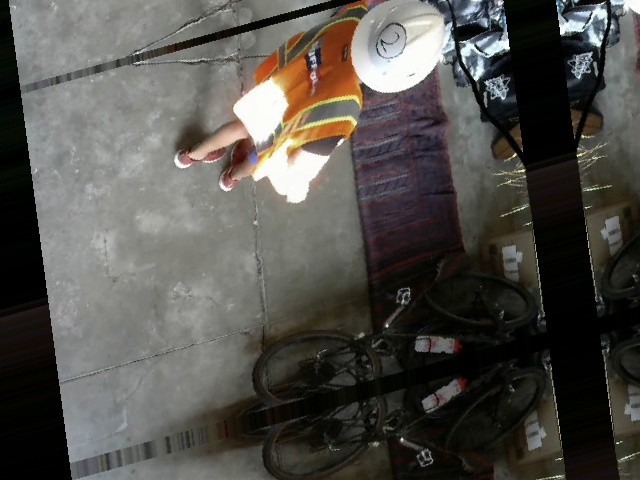two: (374, 19, 409, 62)
